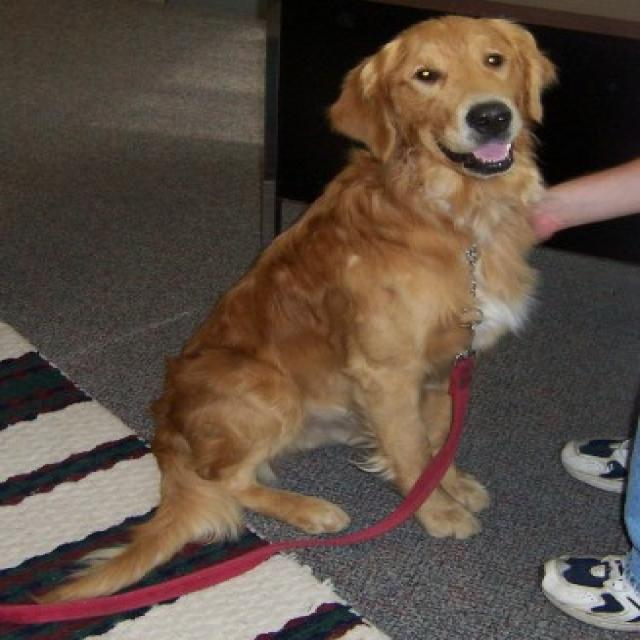Dogs: (29, 13, 556, 605)
